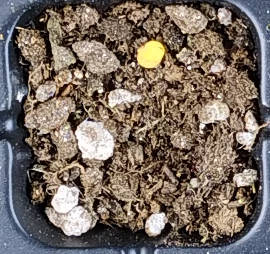chilli seed: (136, 40, 165, 69)
